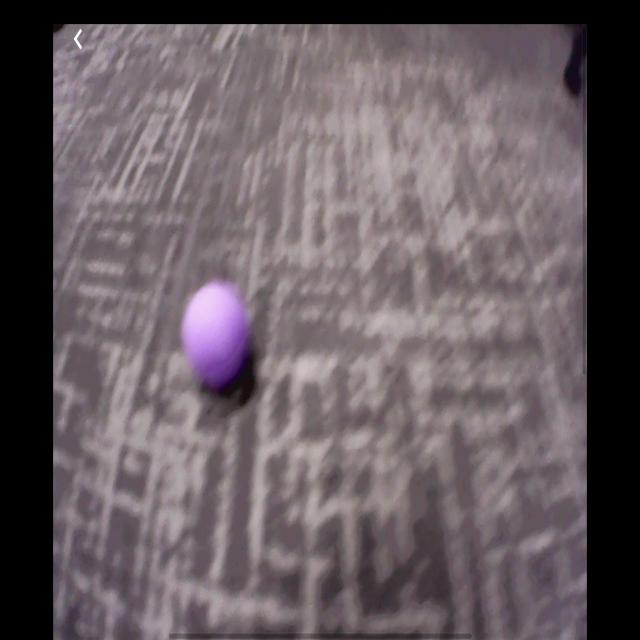ball: (185, 287, 247, 382)
